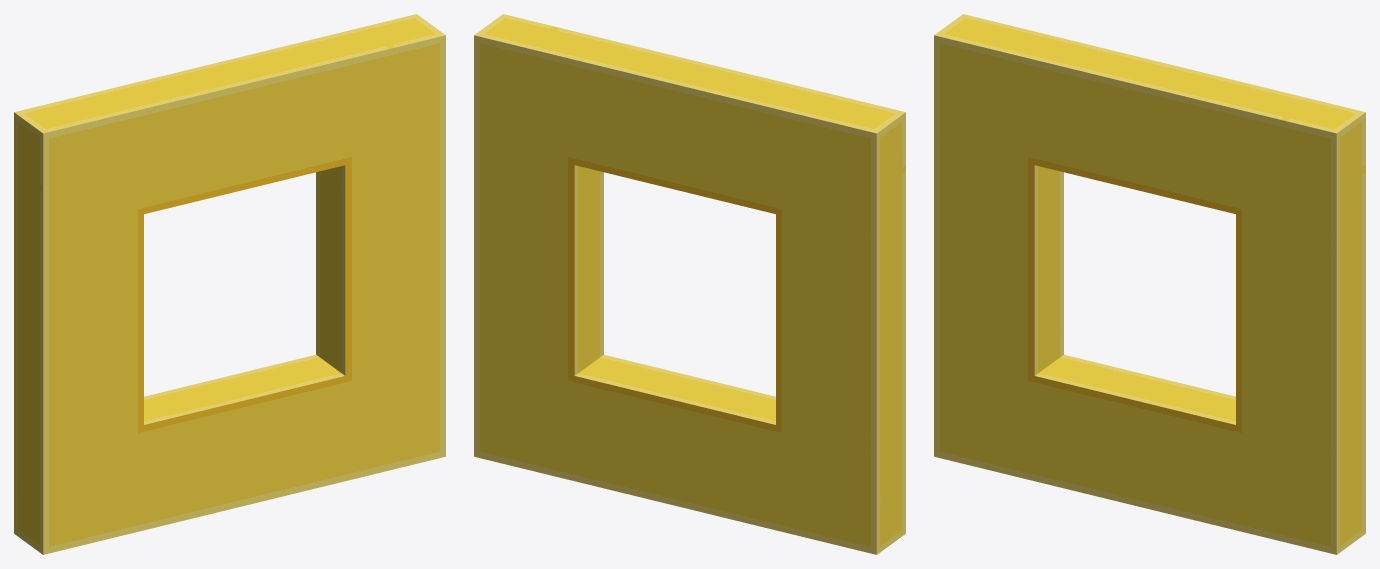
Rendered from stargate_ring_cao.fezao.glb.
3 views of the same model, side by side, from view 1: azimuth 30°, elevation 25°; view 2: azimuth 150°, elevation 25°; view 3: azimuth 330°, elevation 25° (orthographic).
Visible parts, largest first — view 1: STARGATE_RING_CAO; view 2: STARGATE_RING_CAO; view 3: STARGATE_RING_CAO.
Boxes of the visible parts, x1,y1,x2,y2 form: STARGATE_RING_CAO: [14, 14, 445, 554]; STARGATE_RING_CAO: [474, 14, 905, 554]; STARGATE_RING_CAO: [934, 14, 1365, 554].
Bounding box in the file's own units: 4 × 4 × 0.5.
1 material, 1 textured.
